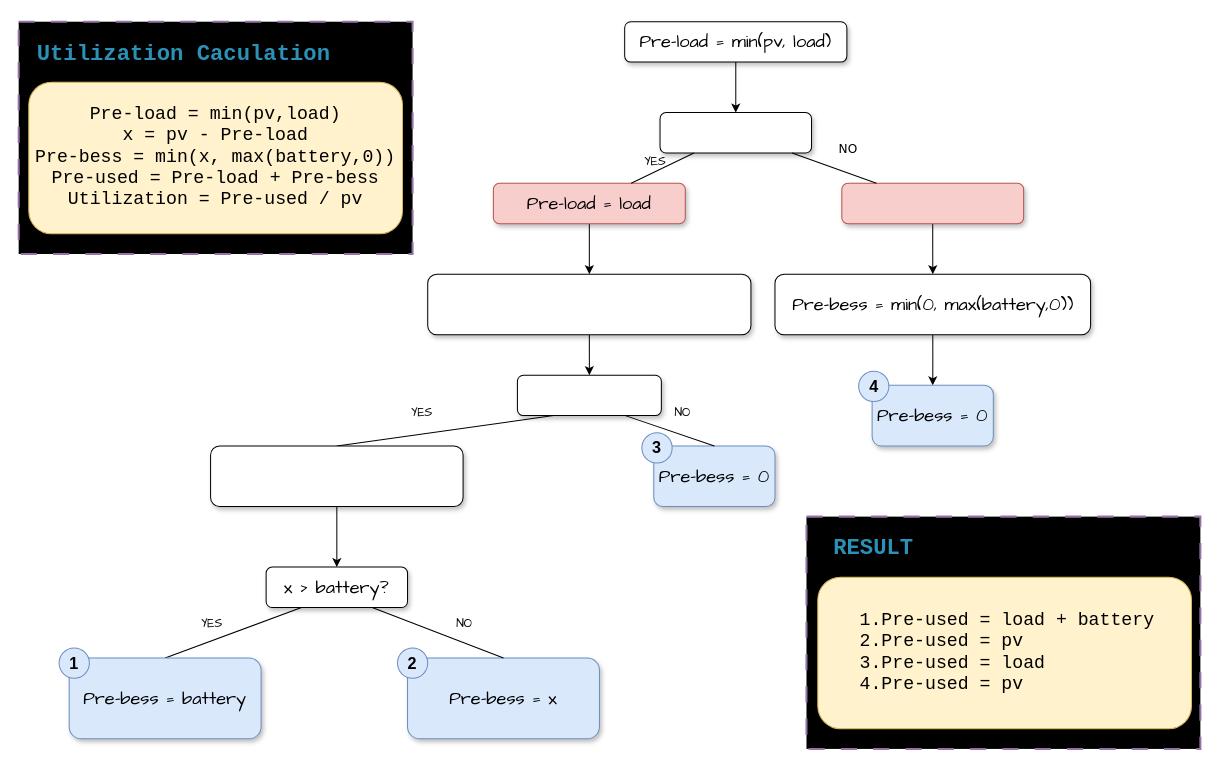
Image size: 1218x768. Some labels were removed from this diagram. The shapes that lost their labels are listed below. From the top down, each one's centre as x and y in pixels, then its label:
At [736,134]: "pv > load ?".
At [933,204]: "Pre-load = pv".
At [590,305]: "Pre-bess = min(+x, max(battery,o))".
At [589,396]: "battery > 0?".
At [337,477]: "Pre-bess =min(+x, battery)".
